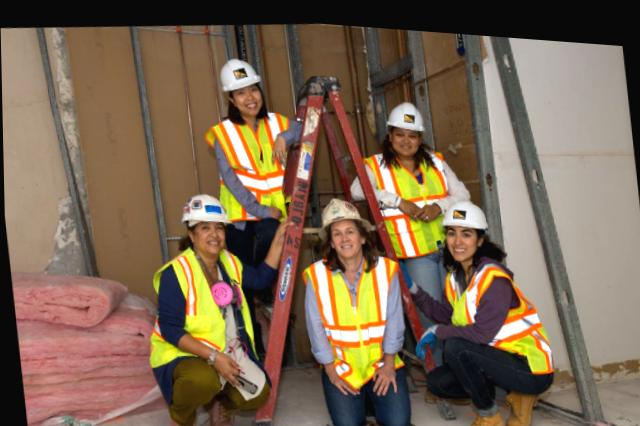helmet: (174, 180, 230, 228), (211, 44, 263, 92), (310, 189, 364, 231), (439, 188, 488, 225), (384, 89, 423, 129)
vest: (442, 252, 553, 371), (311, 242, 405, 378), (142, 243, 245, 365), (208, 103, 290, 223), (373, 139, 450, 248)
